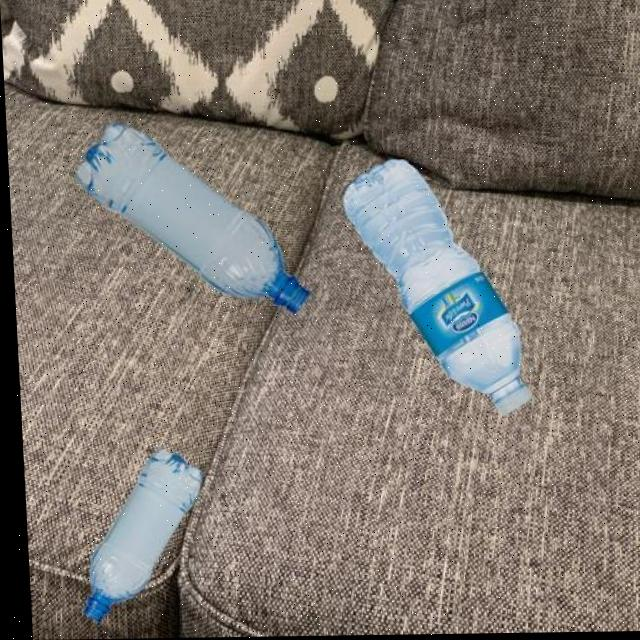bottle: (336, 156, 530, 419), (67, 118, 308, 318), (67, 448, 204, 623)
